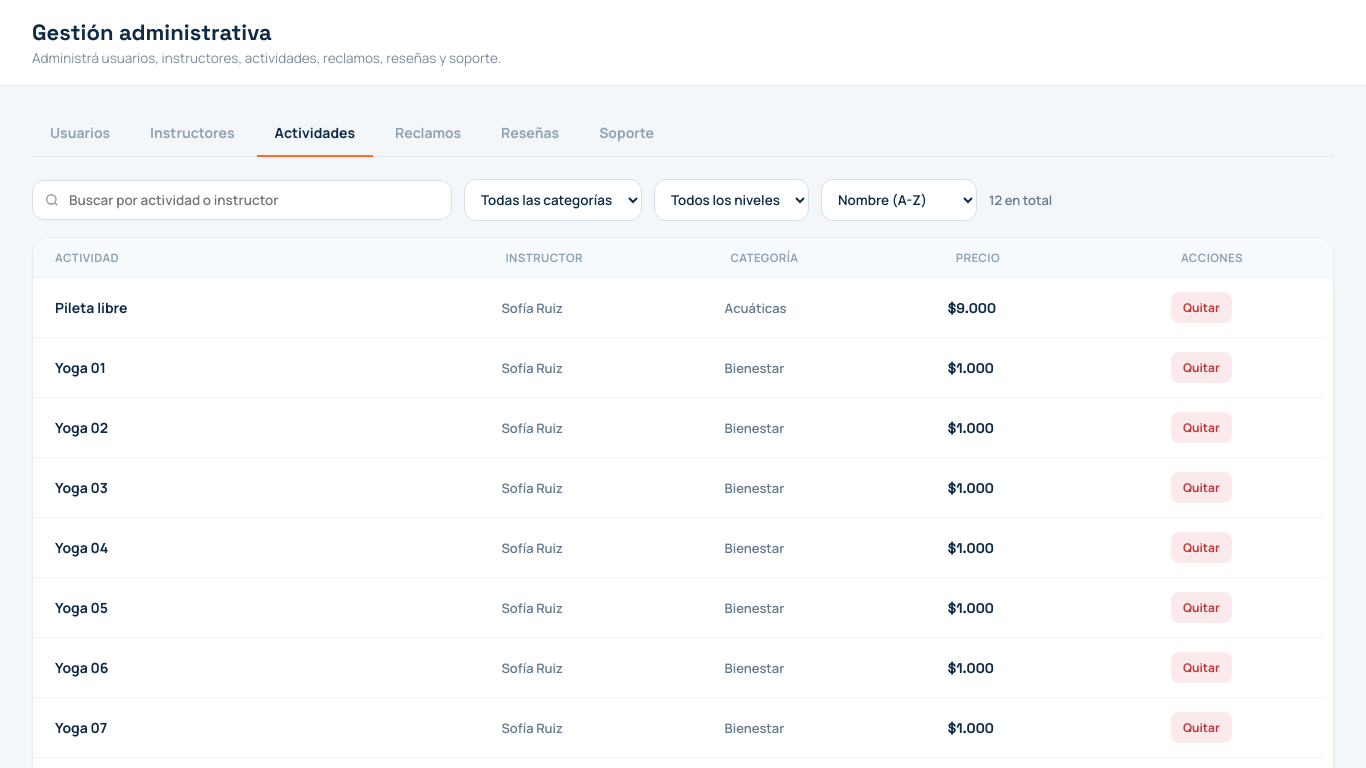
Test case: Gestión › Actividades › filtra por categoría y por texto, con el contador y 'Limpiar filtros'
Expected: the text "12 en total" is shown, [989,191,1052,209]
Step 1. Select "Acuáticas" in the dropdown named "Categoría" → coordinates (553, 200), box [464,179,642,221]
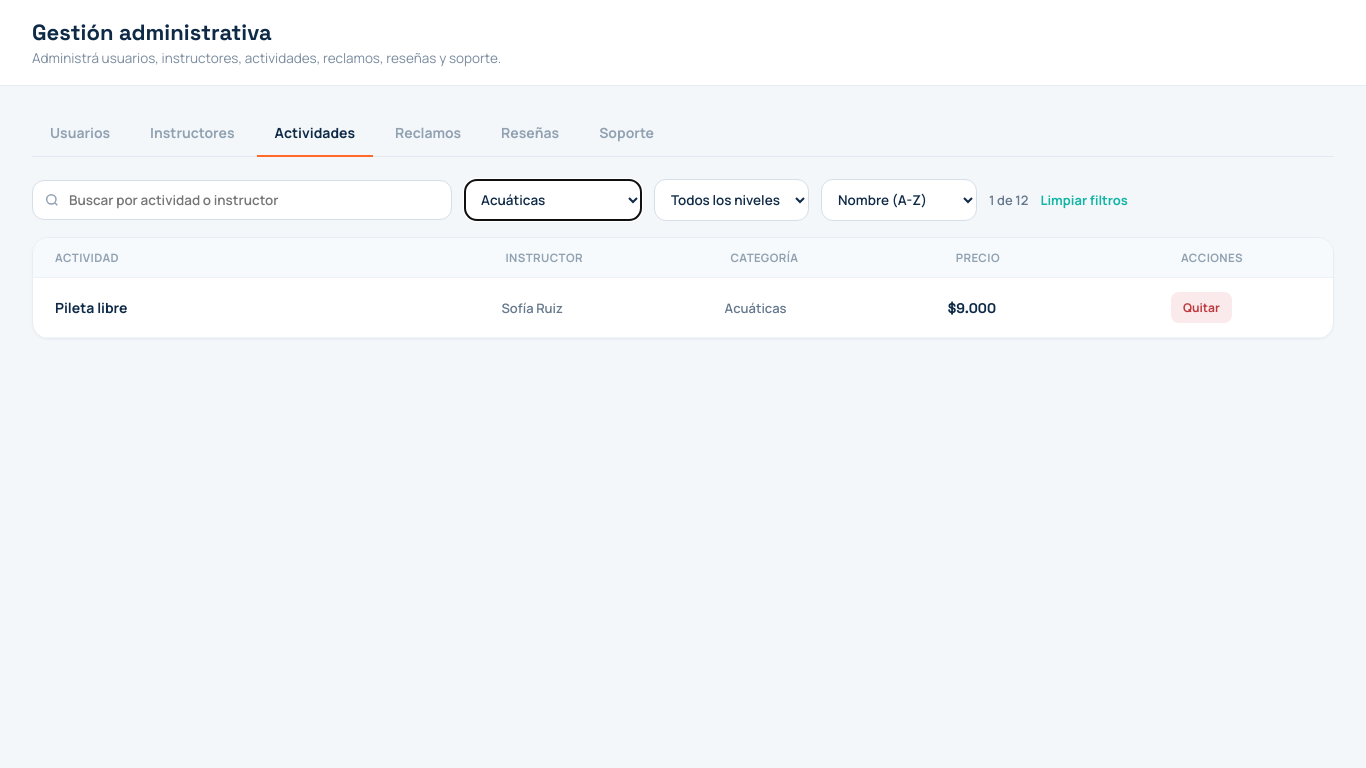
Expected: the text "Pileta libre" is shown, [55,298,128,317]
Expected: the number of buttons "Quitar" is 1, [1171,292,1232,323]
Expected: the text "1 de 12" is shown, [989,191,1028,209]
Step 2. Click the button "Limpiar filtros" → coordinates (1084, 200), box [1040,191,1128,209]
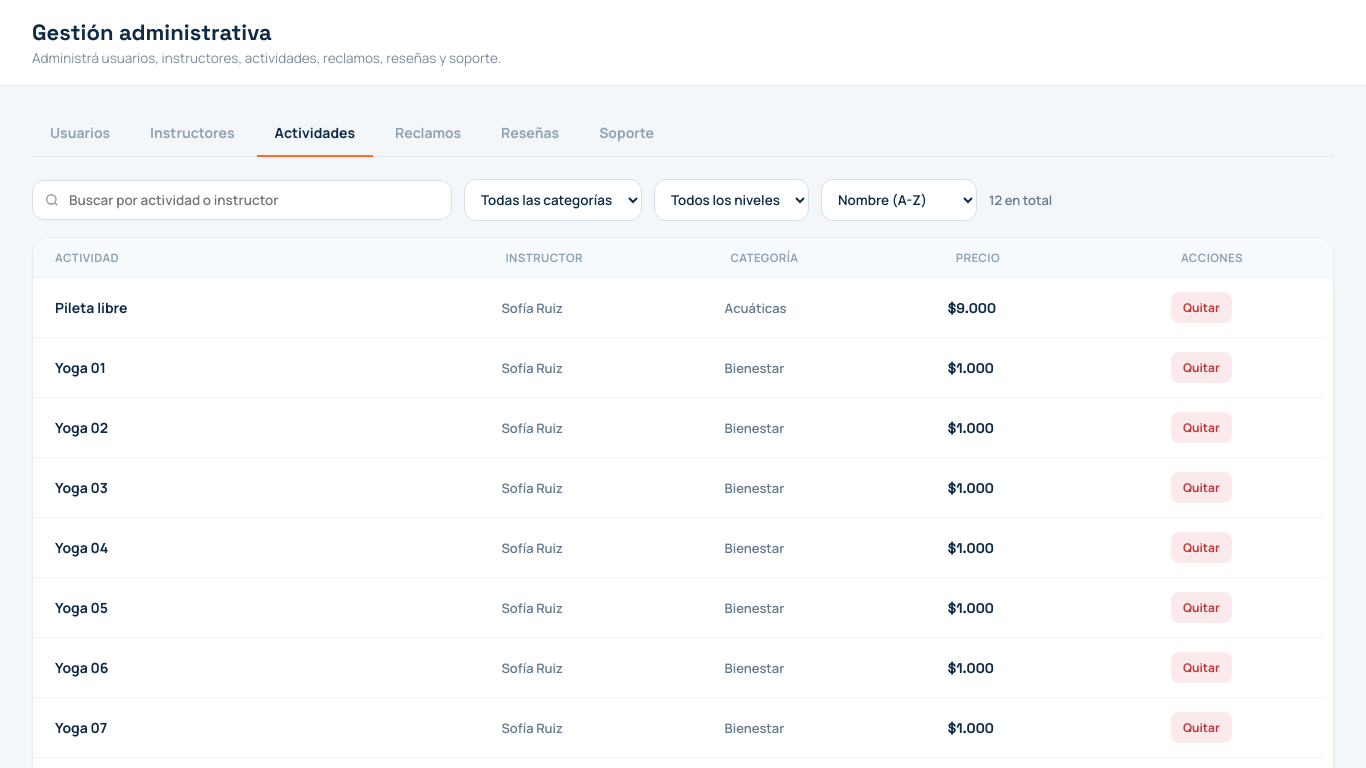
Step 3. Type "yoga 1" into the search field named "Buscar actividades" → coordinates (242, 200), box [32,180,452,220]
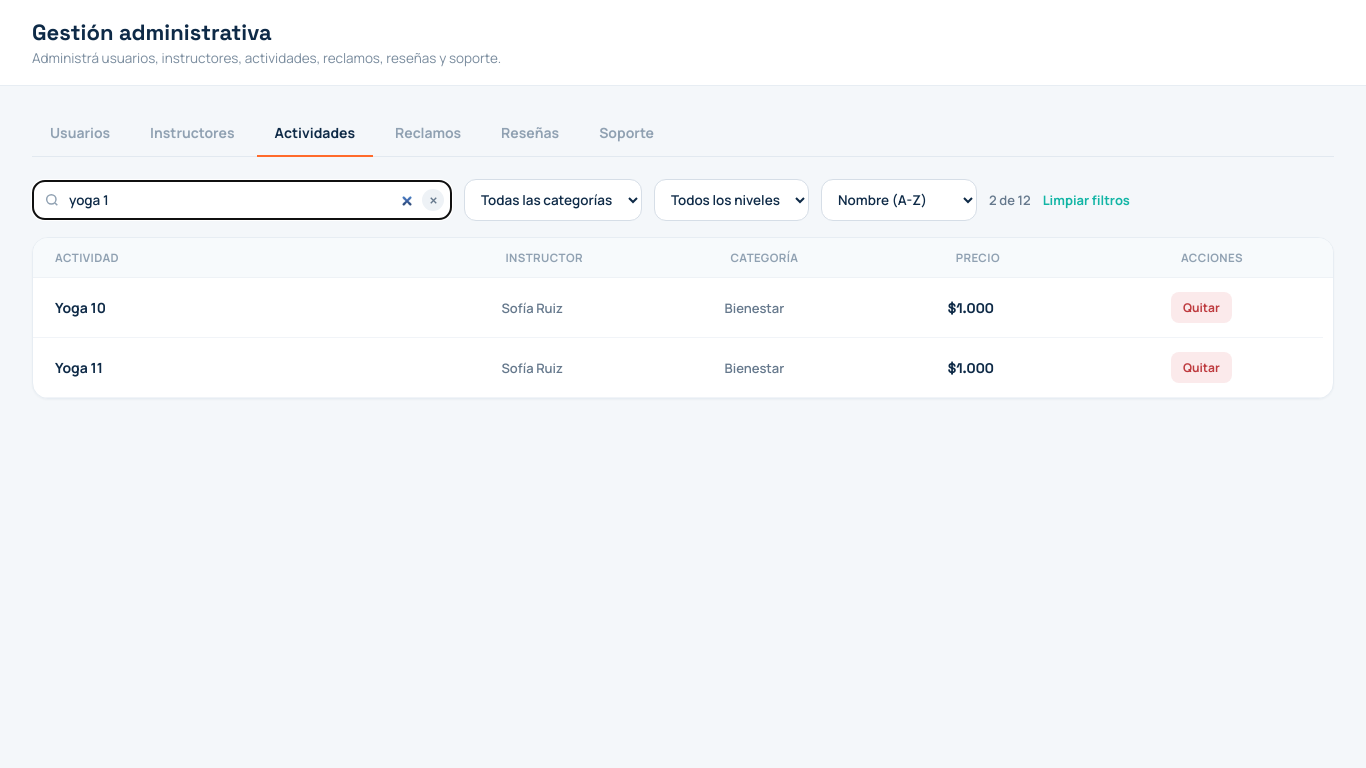
Expected: the number of buttons "Quitar" is 2, [1171,292,1232,323]; [1171,352,1232,383]
